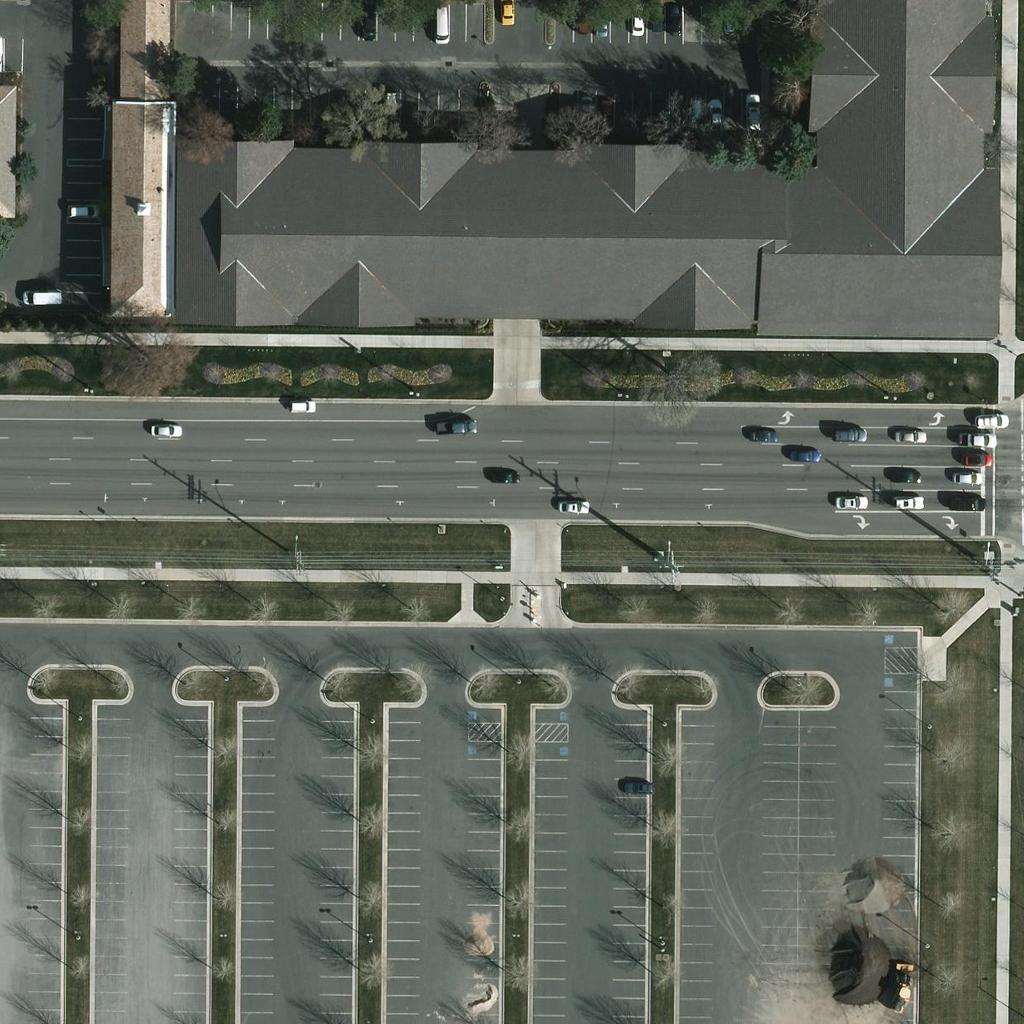car: (639, 2, 673, 36), (353, 4, 387, 38), (565, 4, 599, 38), (622, 4, 656, 38), (586, 5, 620, 39), (712, 5, 746, 39), (424, 8, 458, 42), (569, 91, 603, 125), (738, 96, 772, 130), (699, 101, 733, 135), (66, 191, 100, 225), (20, 280, 54, 314), (283, 387, 317, 421), (973, 404, 1007, 438), (439, 408, 473, 442), (147, 412, 181, 446), (831, 417, 865, 451), (743, 418, 777, 452), (891, 418, 925, 452), (963, 422, 997, 456), (784, 436, 818, 470), (960, 440, 994, 474), (883, 458, 917, 492), (484, 459, 518, 493), (949, 460, 983, 494), (830, 484, 864, 518), (889, 486, 923, 520), (952, 486, 986, 520), (551, 489, 585, 523), (624, 770, 658, 804), (657, 0, 691, 31), (490, 0, 524, 24)
